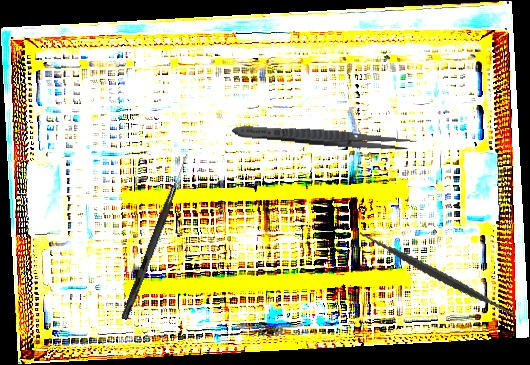Dressing Forceps: (230, 121, 418, 154)
Hook Surgical: (121, 151, 190, 322)
Spatula Surgical: (357, 194, 519, 355)
